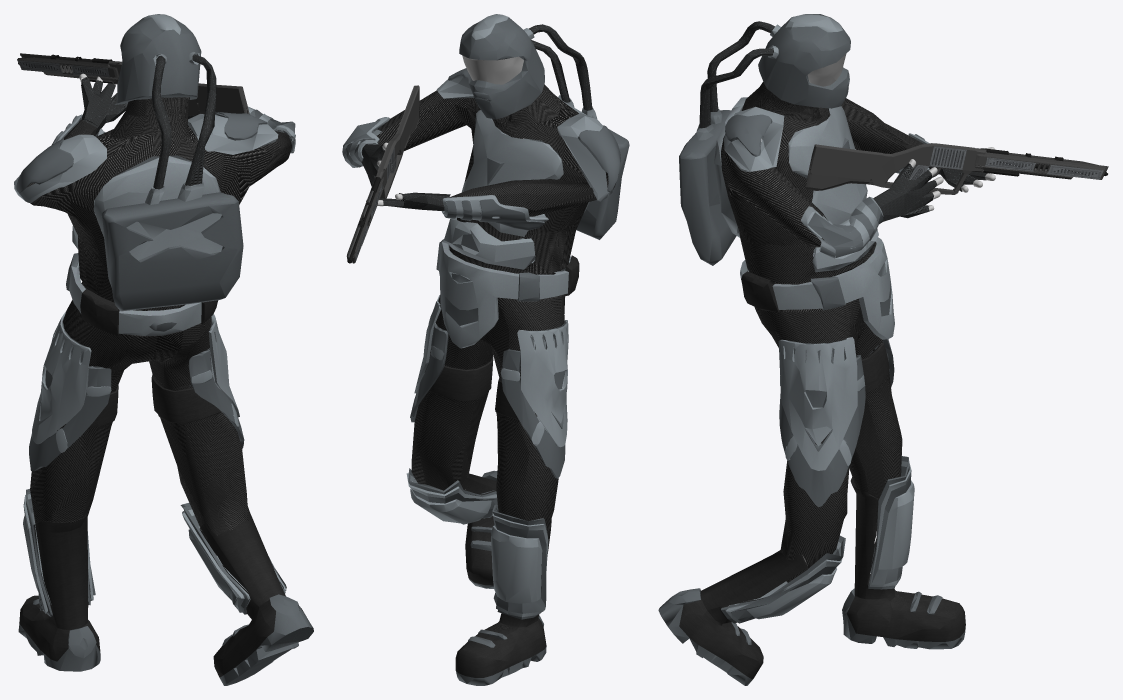
The model's file is AndarEscopeta.0021.obj.
The picture shows the model from 3 angles, left to right: view 1: azimuth 30°, elevation 25°; view 2: azimuth 150°, elevation 25°; view 3: azimuth 270°, elevation 25°; orthographic projection. The views are drawn at different scales.
Parts seen in each view (by area): view 1: personaje:extrudedSurface2 polySurface172, personaje:PANTALON polySurface172, personaje:bota1 polySurface172, personaje:CAMISETABUENA polySurface172, personaje:pPipe4 polySurface172, personaje:pCube4 polySurface172, personaje:cosoarmdaurapierna1 polySurface172, personaje:cinturon polySurface172, escopeta:Cylinder001 polySurface172, personaje:polySurface6 polySurface172, personaje:armadbota1 polySurface172, personaje:HOMBRO2 polySurface172 (+4 smaller); view 2: personaje:PANTALON polySurface172, personaje:CAMISETABUENA polySurface172, personaje:pPipe4 polySurface172, personaje:extrudedSurface2 polySurface172, personaje:bota1 polySurface172, personaje:cinturon polySurface172, personaje:pCube4 polySurface172, personaje:armadbota1 polySurface172, personaje:cosoarmdaurapierna1 polySurface172, escopeta:Cylinder001 polySurface172, personaje:polySurface6 polySurface172, personaje:polySurface2 polySurface172 (+6 smaller); view 3: personaje:bota1 polySurface172, personaje:CAMISETABUENA polySurface172, personaje:extrudedSurface2 polySurface172, personaje:PANTALON polySurface172, personaje:pPipe4 polySurface172, personaje:pCube4 polySurface172, escopeta:Cylinder001 polySurface172, personaje:cinturon polySurface172, personaje:armadbota1 polySurface172, personaje:cosoarmadurapierna2 polySurface172, personaje:hombro1 polySurface172, personaje:partearmdBRAZO2 polySurface172 (+2 smaller).
Boxes of the visible parts, left/top/right/bottom form: personaje:extrudedSurface2 polySurface172: left=101, top=14, right=243, bottom=311; personaje:PANTALON polySurface172: left=30, top=282, right=248, bottom=555; personaje:bota1 polySurface172: left=18, top=506, right=313, bottom=685; personaje:CAMISETABUENA polySurface172: left=26, top=97, right=291, bottom=336; personaje:pPipe4 polySurface172: left=14, top=77, right=295, bottom=249; personaje:pCube4 polySurface172: left=26, top=314, right=286, bottom=616; personaje:cosoarmdaurapierna1 polySurface172: left=31, top=312, right=111, bottom=452; personaje:cinturon polySurface172: left=66, top=253, right=217, bottom=335; escopeta:Cylinder001 polySurface172: left=17, top=53, right=249, bottom=115; personaje:polySurface6 polySurface172: left=87, top=375, right=221, bottom=428; personaje:armadbota1 polySurface172: left=23, top=493, right=286, bottom=613; personaje:HOMBRO2 polySurface172: left=16, top=138, right=73, bottom=192; personaje:PANTALON polySurface172: left=411, top=263, right=565, bottom=530; personaje:CAMISETABUENA polySurface172: left=359, top=58, right=615, bottom=301; personaje:pPipe4 polySurface172: left=342, top=75, right=612, bottom=269; personaje:extrudedSurface2 polySurface172: left=459, top=14, right=629, bottom=239; personaje:bota1 polySurface172: left=455, top=470, right=551, bottom=685; personaje:cinturon polySurface172: left=436, top=238, right=579, bottom=348; personaje:pCube4 polySurface172: left=408, top=295, right=565, bottom=619; personaje:armadbota1 polySurface172: left=406, top=473, right=548, bottom=617; personaje:cosoarmdaurapierna1 polySurface172: left=500, top=320, right=568, bottom=447; escopeta:Cylinder001 polySurface172: left=346, top=85, right=419, bottom=263; personaje:polySurface6 polySurface172: left=429, top=356, right=518, bottom=419; personaje:polySurface2 polySurface172: left=443, top=199, right=545, bottom=230; personaje:bota1 polySurface172: left=658, top=477, right=965, bottom=685; personaje:CAMISETABUENA polySurface172: left=721, top=82, right=923, bottom=312; personaje:extrudedSurface2 polySurface172: left=679, top=14, right=850, bottom=265; personaje:PANTALON polySurface172: left=754, top=257, right=902, bottom=582; personaje:pPipe4 polySurface172: left=714, top=97, right=989, bottom=272; personaje:pCube4 polySurface172: left=721, top=337, right=911, bottom=623; escopeta:Cylinder001 polySurface172: left=806, top=143, right=1108, bottom=194; personaje:cinturon polySurface172: left=740, top=237, right=894, bottom=339; personaje:armadbota1 polySurface172: left=725, top=461, right=914, bottom=623; personaje:cosoarmadurapierna2 polySurface172: left=779, top=347, right=865, bottom=506; personaje:hombro1 polySurface172: left=725, top=114, right=772, bottom=156; personaje:partearmdBRAZO2 polySurface172: left=801, top=197, right=883, bottom=258.
Size of the model in its own units: 4.25 by 9.49 by 5.98.
